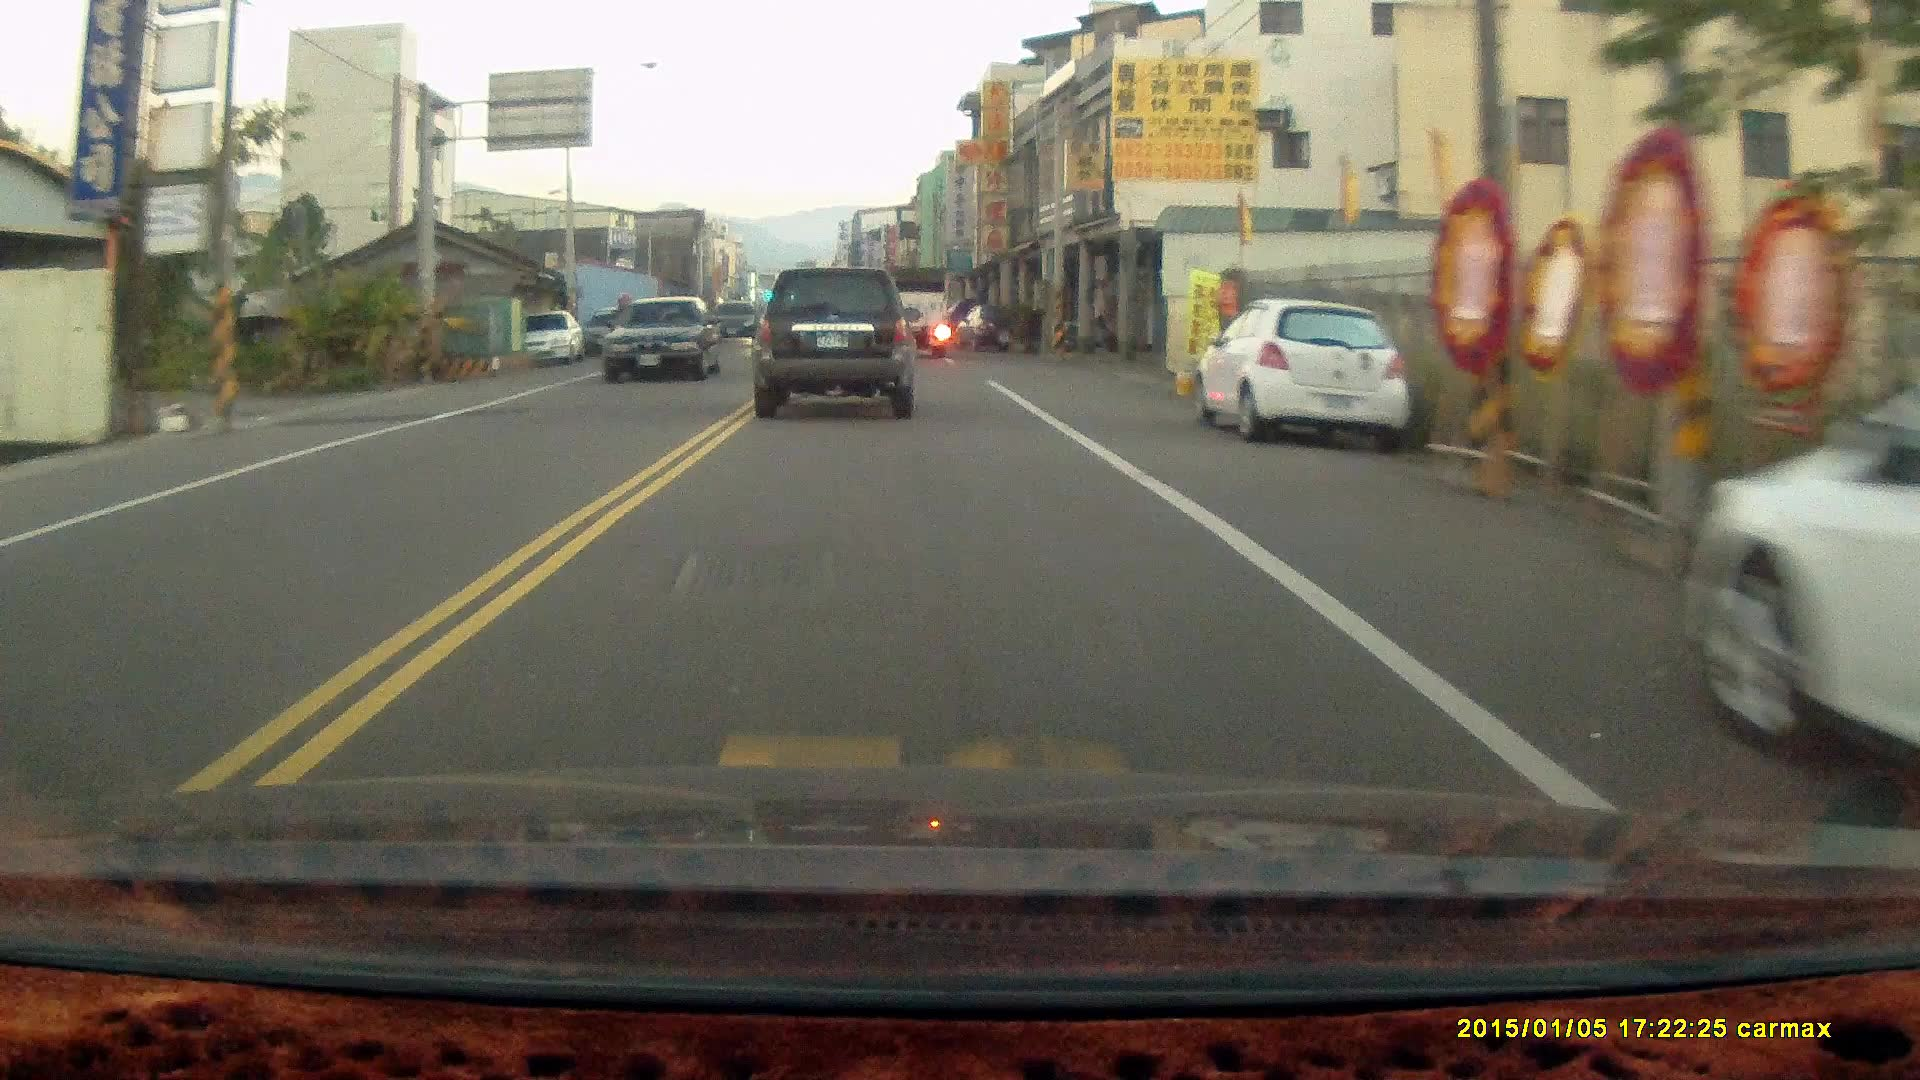vehicle: (1683, 339, 1920, 832), (1197, 299, 1407, 456), (748, 269, 918, 423), (605, 291, 729, 384), (880, 262, 955, 357), (506, 310, 585, 367), (576, 309, 646, 356)
